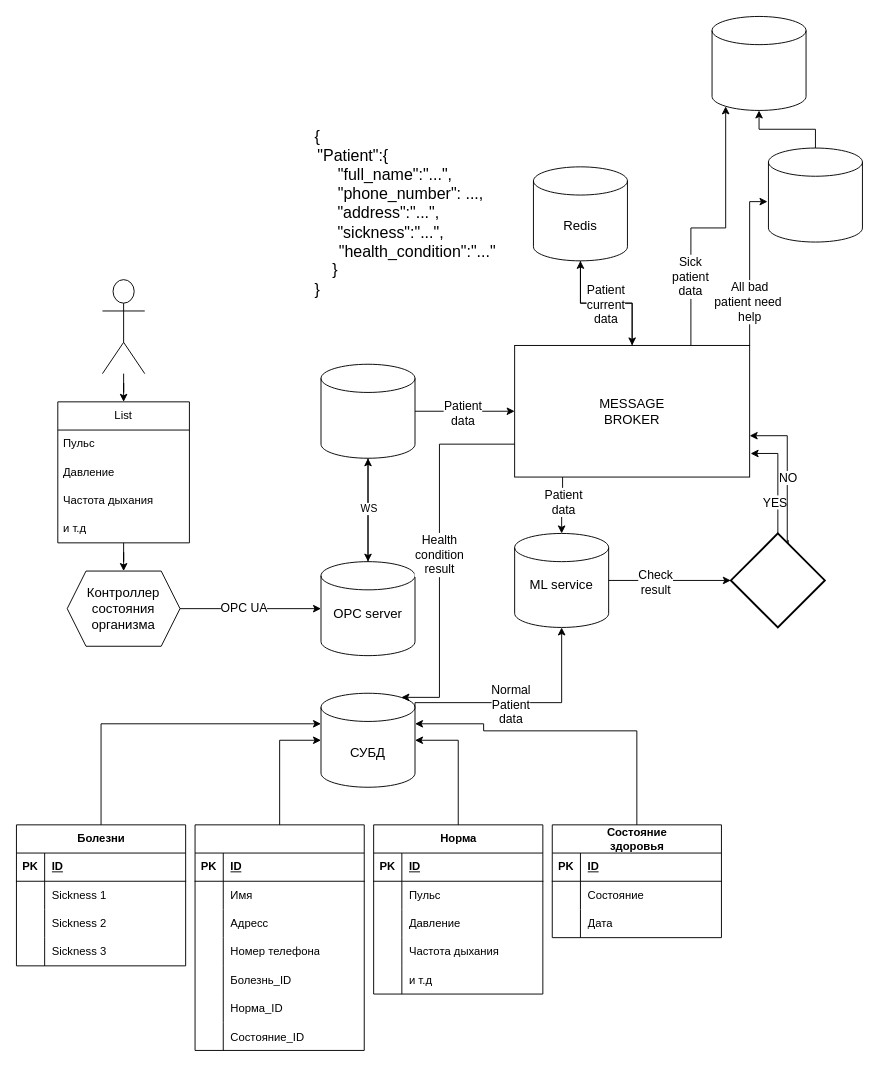
This 879x1067 diagram has some shape labels left out. The shapes that lost their labels are listed below. From the top down, each one's box as (x1, y1, x2, y2) in pixels, then its label:
(711, 16, 806, 110): Emergency Service
(768, 147, 862, 242): Notification service
(320, 363, 415, 458): data manager service
(729, 532, 825, 628): Result is good?
(194, 824, 364, 1050): Люди
